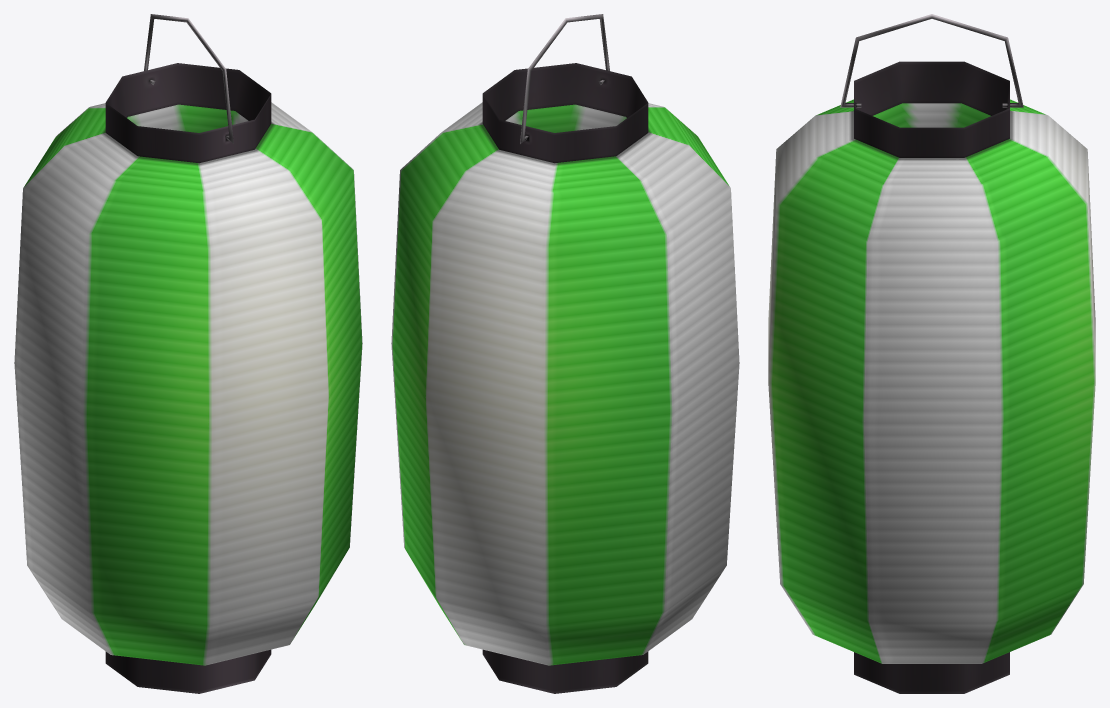
The model's file is jsf_Light_Lantern_08.fbx.
3 views of the same model, side by side, from view 1: azimuth 30°, elevation 25°; view 2: azimuth 150°, elevation 25°; view 3: azimuth 270°, elevation 25° (orthographic).
Visible parts, largest first — view 1: Lantern, Handle; view 2: Lantern, Handle; view 3: Lantern, Handle.
Boxes of the visible parts, x1,y1,x2,y2 form: Lantern: (14,63,362,693); Handle: (144,14,233,143); Lantern: (391,63,739,693); Handle: (520,14,609,143); Lantern: (768,61,1095,693); Handle: (840,14,1023,107).
Size of the model in its own units: 24.44 by 53.27 by 24.44.
